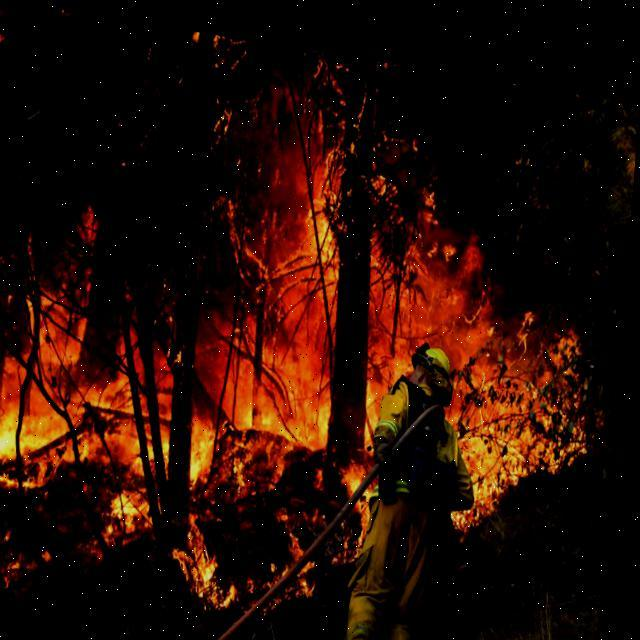Fire: (224, 59, 610, 627), (0, 186, 235, 570)
